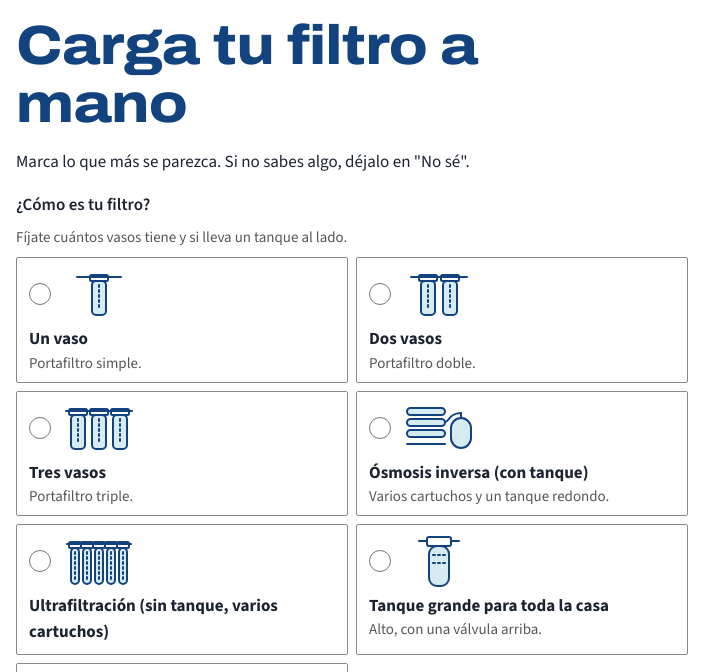
Test: /mi-filtro/manual › más de 6 modelos: muestra 6 de menor a mayor y "Ver más modelos"
This screenshot has width=705, height=672.
Click the radio button labelled "Tanque grande": click(380, 561) [369,550,391,572]
(page scrolled)
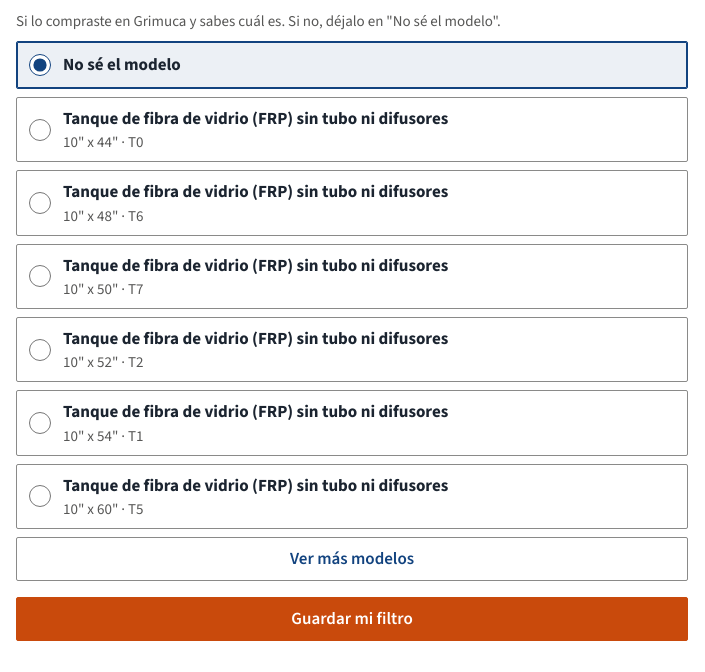
Click the button "Ver más modelos": click(352, 559) [16,537,688,581]
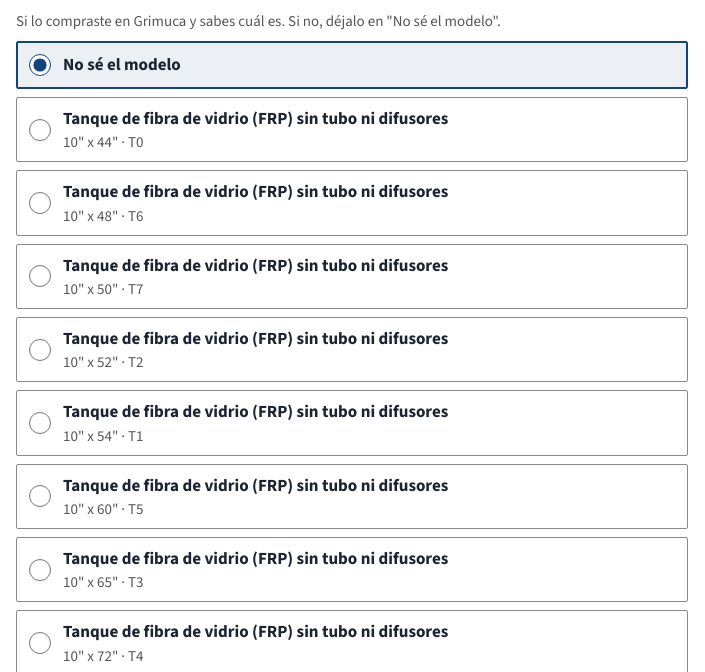
Check: the button "Ver más modelos" is gone
